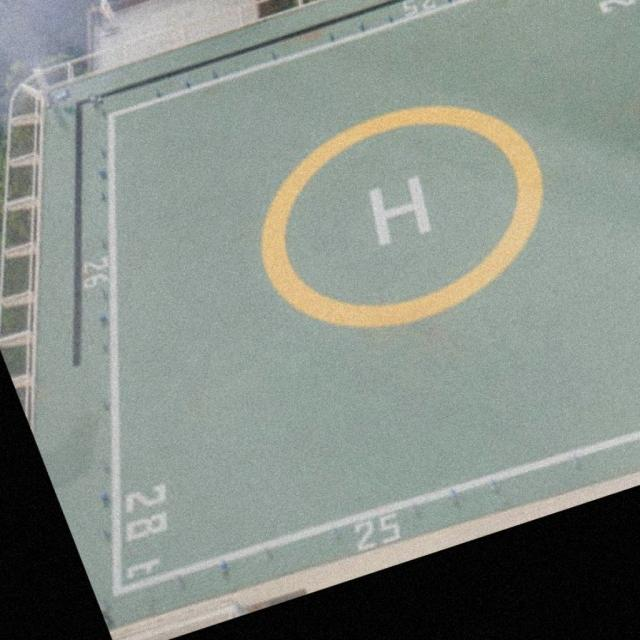helipad: (251, 97, 546, 333)
